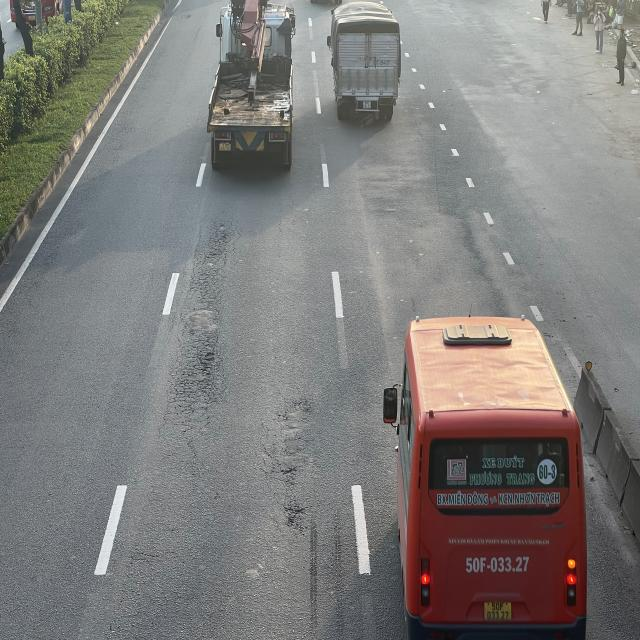truck: (206, 3, 294, 172), (326, 4, 400, 124)
van: (382, 315, 584, 636)
